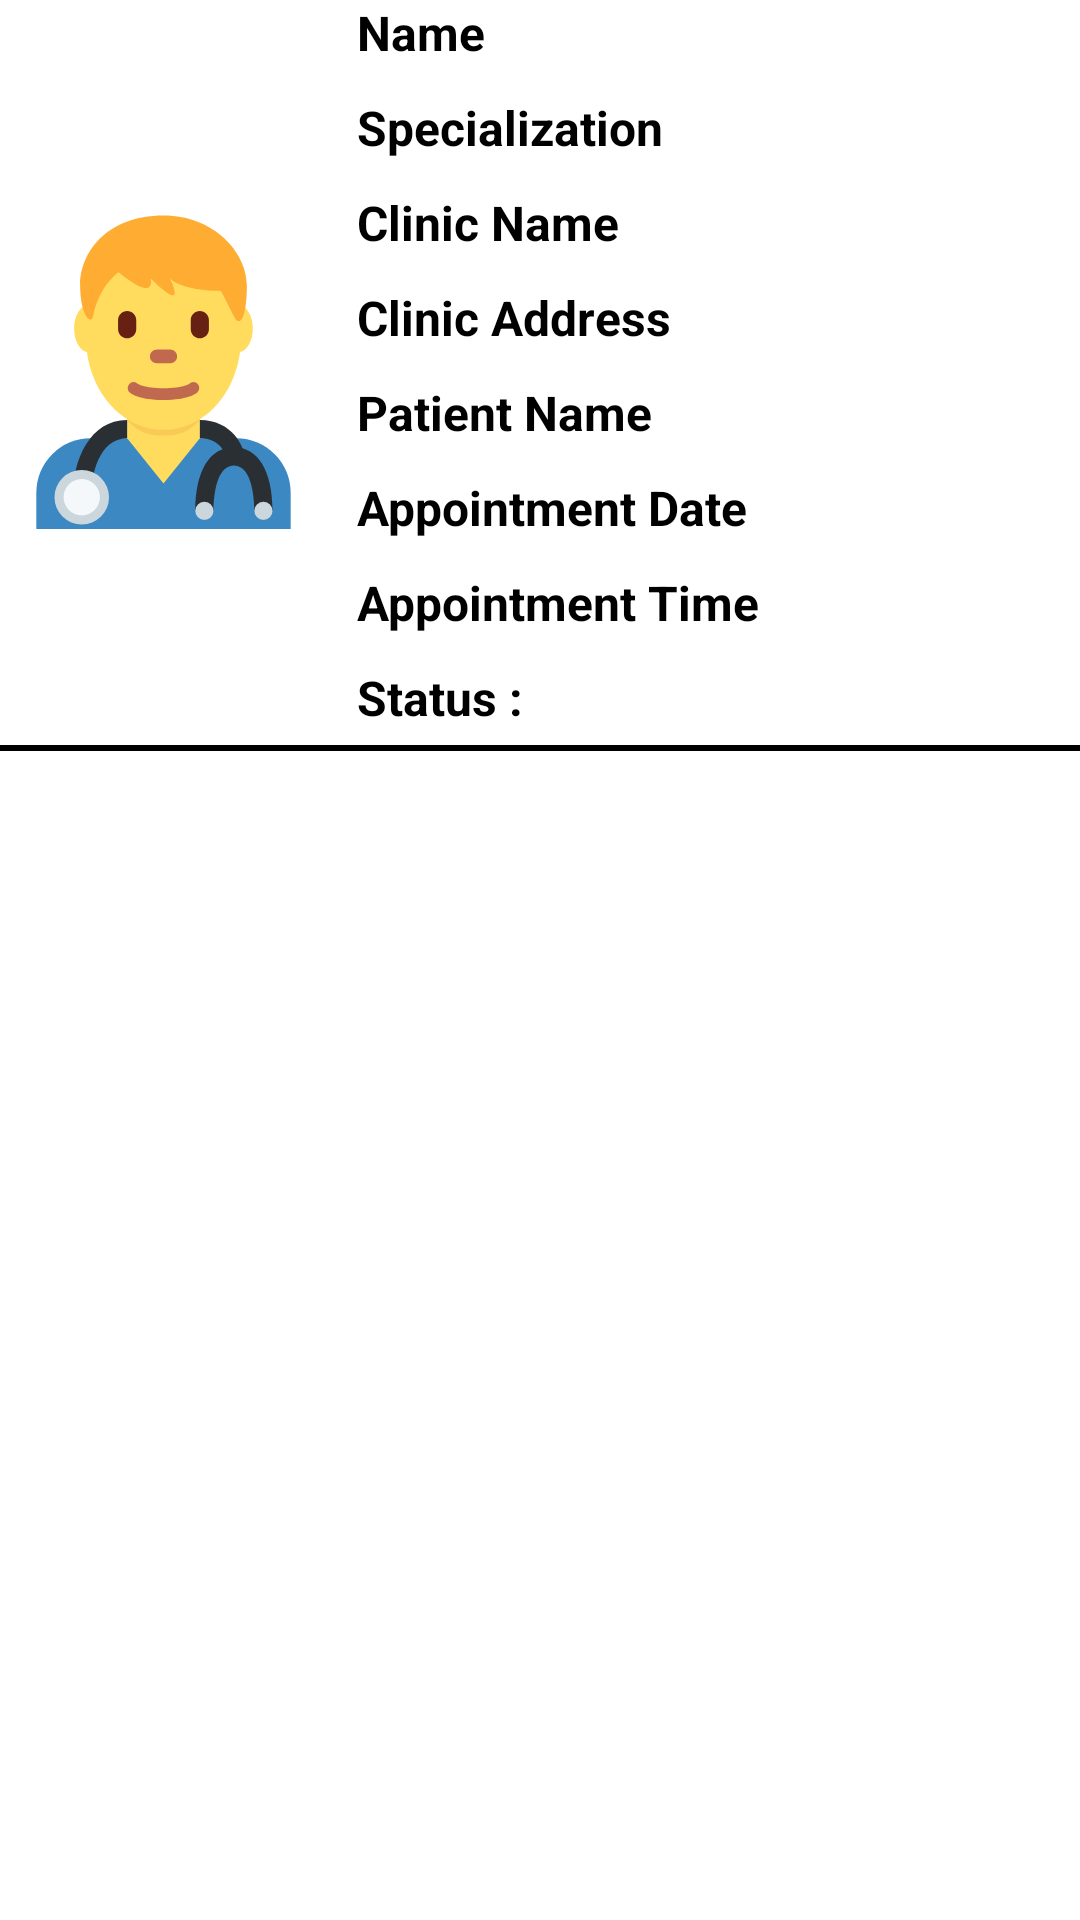

Icon click points for this 1080 x 1920 phone screenshot, format point (x, y):
man health worker: point (163, 372)
